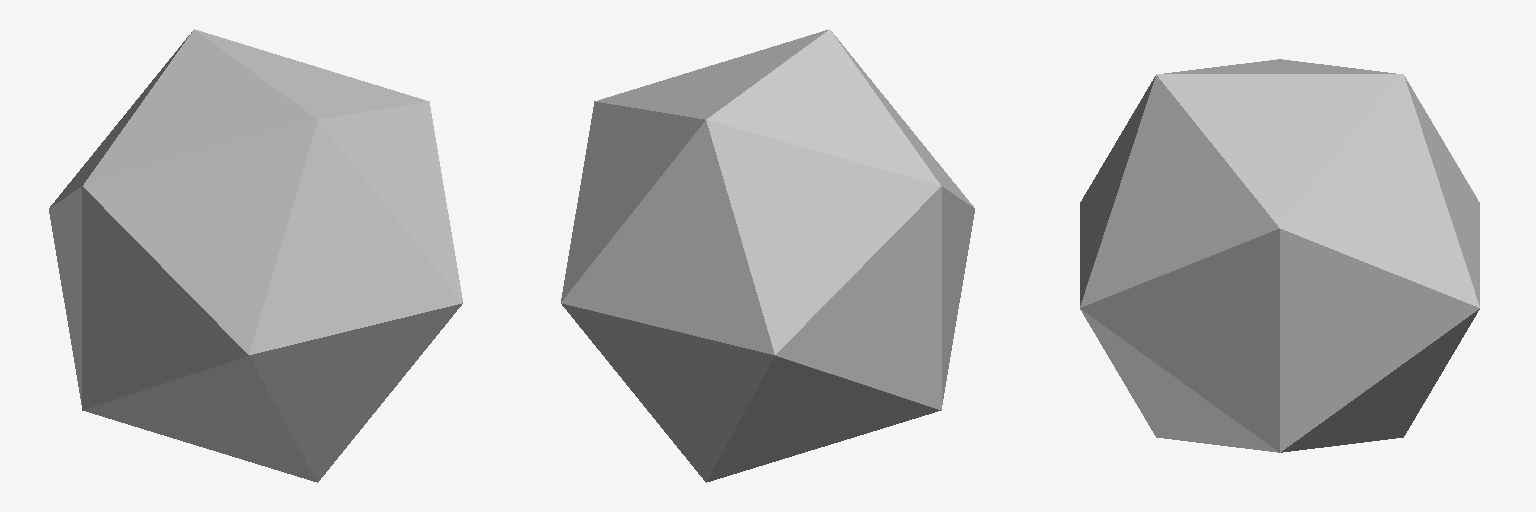
The model's file is center - Copie (2).obj.
The picture shows the model from 3 angles: view 1: azimuth 30°, elevation 25°; view 2: azimuth 150°, elevation 25°; view 3: azimuth 270°, elevation 25°; orthographic projection.
Visible parts, largest first — view 1: 000_Polyhedron; view 2: 000_Polyhedron; view 3: 000_Polyhedron.
Boxes of the visible parts, x1=… form: 000_Polyhedron: x1=49, y1=29, x2=462, y2=482; 000_Polyhedron: x1=561, y1=29, x2=974, y2=482; 000_Polyhedron: x1=1080, y1=59, x2=1479, y2=452.
Size of the model in its own units: 85.07 by 85.06 by 85.07.